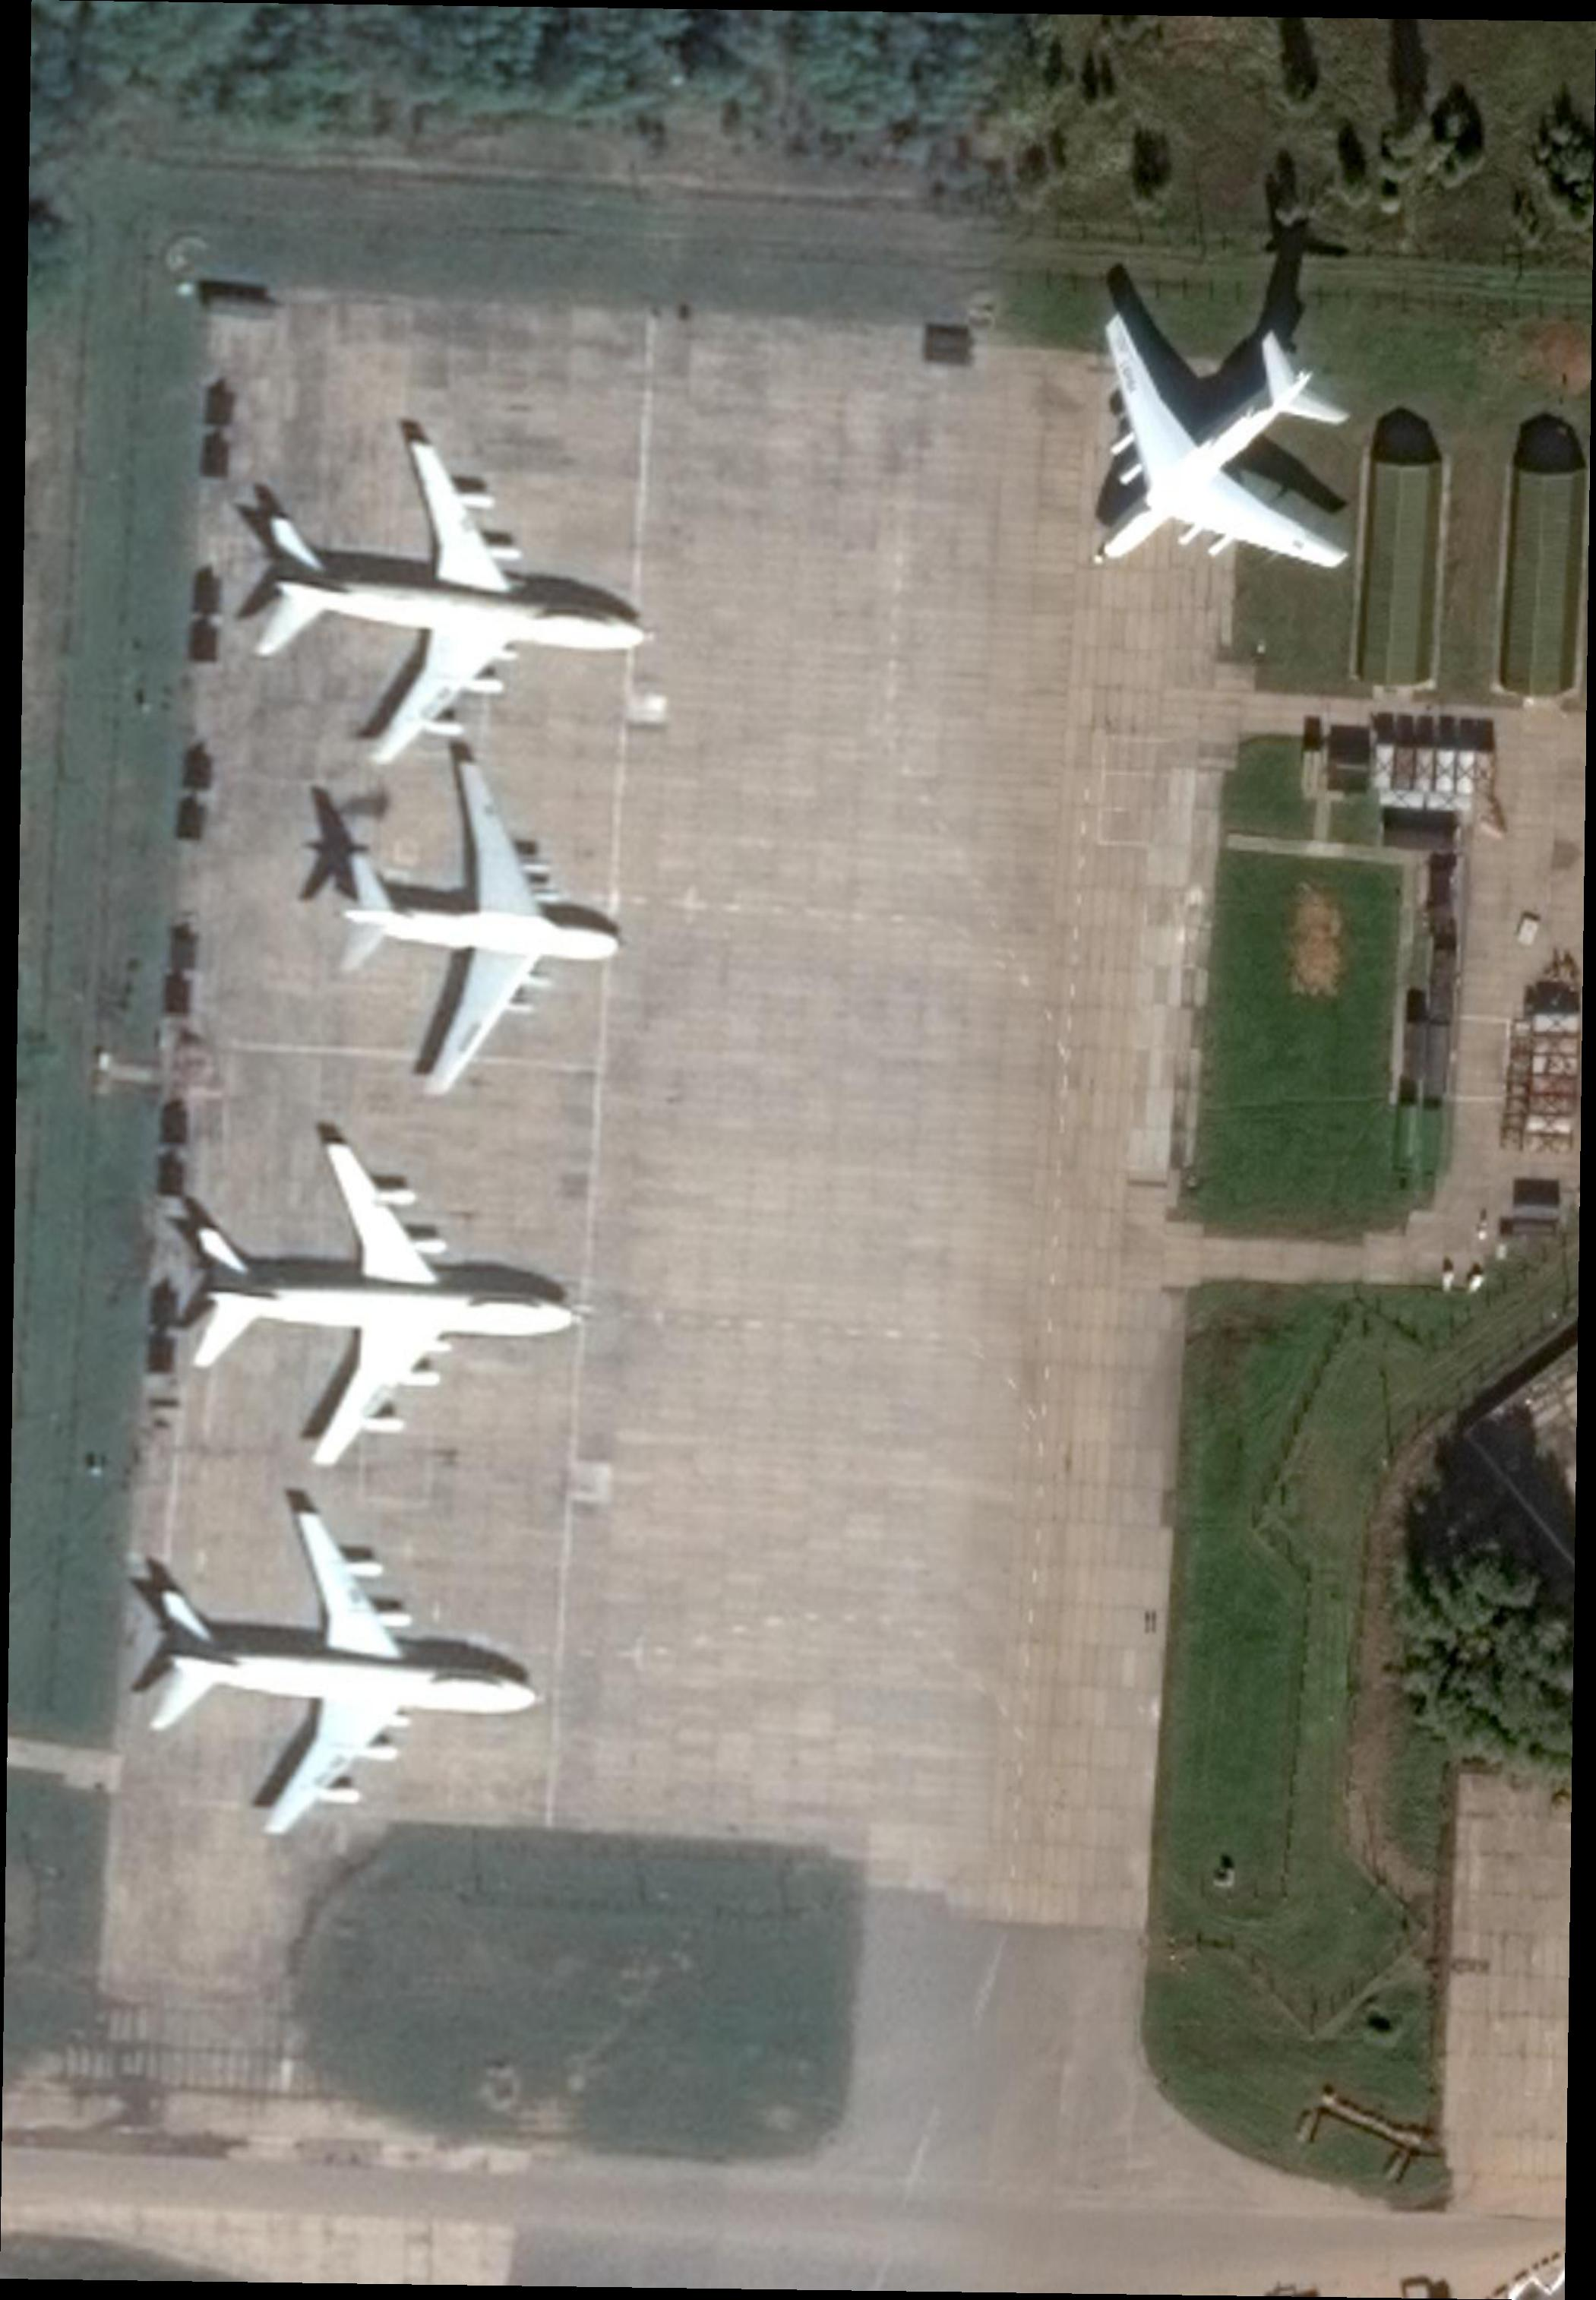plane: (986, 250, 1416, 687), (239, 423, 670, 792), (187, 1127, 589, 1486), (143, 1500, 551, 1842), (320, 752, 640, 1110)
